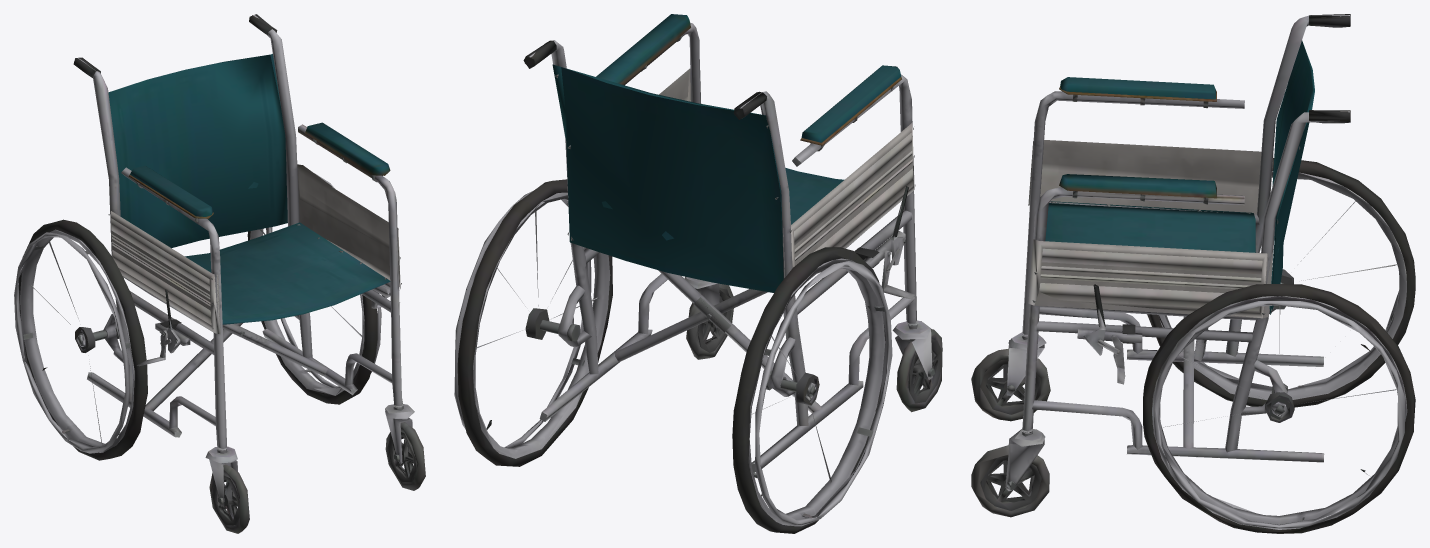
Rendered from wheelchair_01.glb.
3 views of the same model, side by side, from view 1: azimuth 30°, elevation 25°; view 2: azimuth 150°, elevation 25°; view 3: azimuth 270°, elevation 25° (orthographic). The views are drawn at different scales.
Visible parts, largest first — view 1: wheelchair_01; view 2: wheelchair_01; view 3: wheelchair_01.
Part boxes in pixels (<box>): wheelchair_01: <box>14,14,425,533</box>; wheelchair_01: <box>454,14,942,533</box>; wheelchair_01: <box>971,14,1415,533</box>.
Size of the model in its own units: 0.8241 by 1.1 by 1.09.
Materials: 1 (1 with a texture image).
